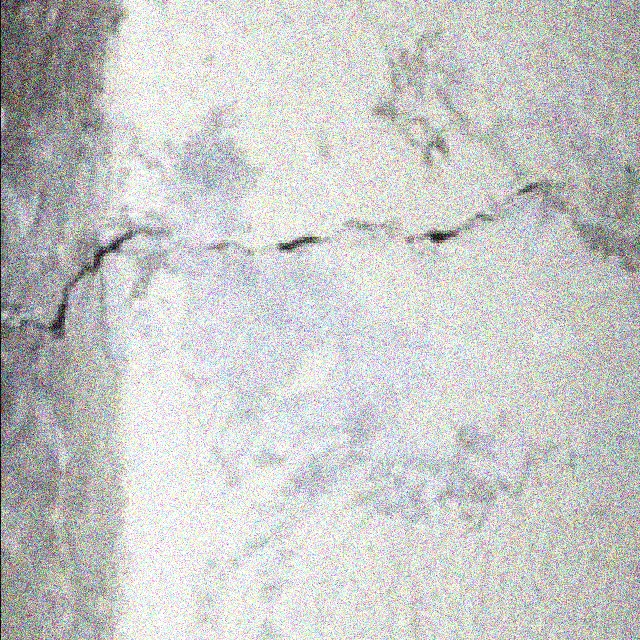SurfaceCrack: (38, 146, 568, 374)
